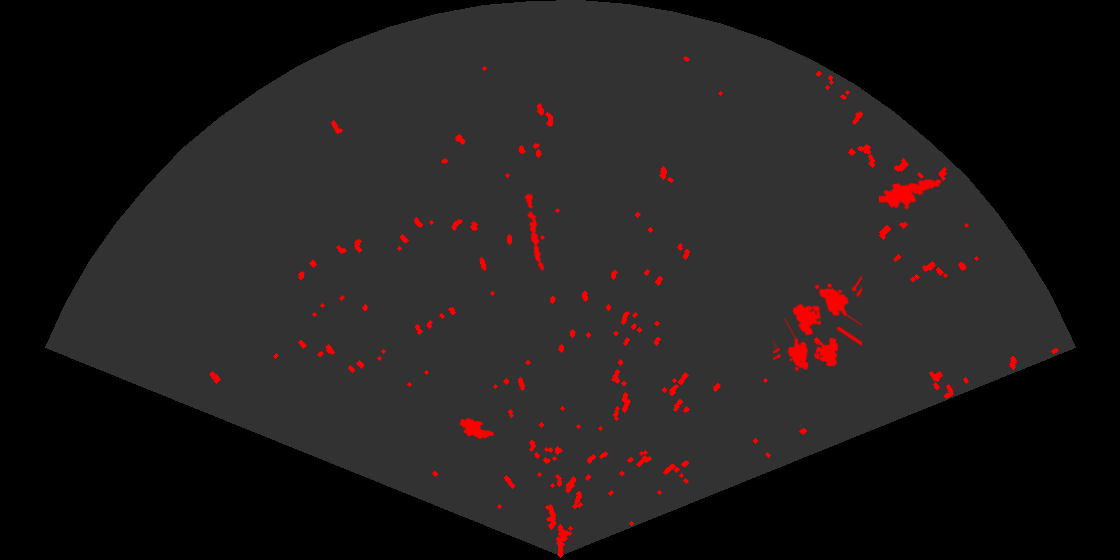AUV: (458, 416, 496, 441)
cage: (791, 273, 862, 348), (773, 318, 840, 373)
chain: (523, 191, 546, 273)
frogman: (879, 177, 942, 212)
